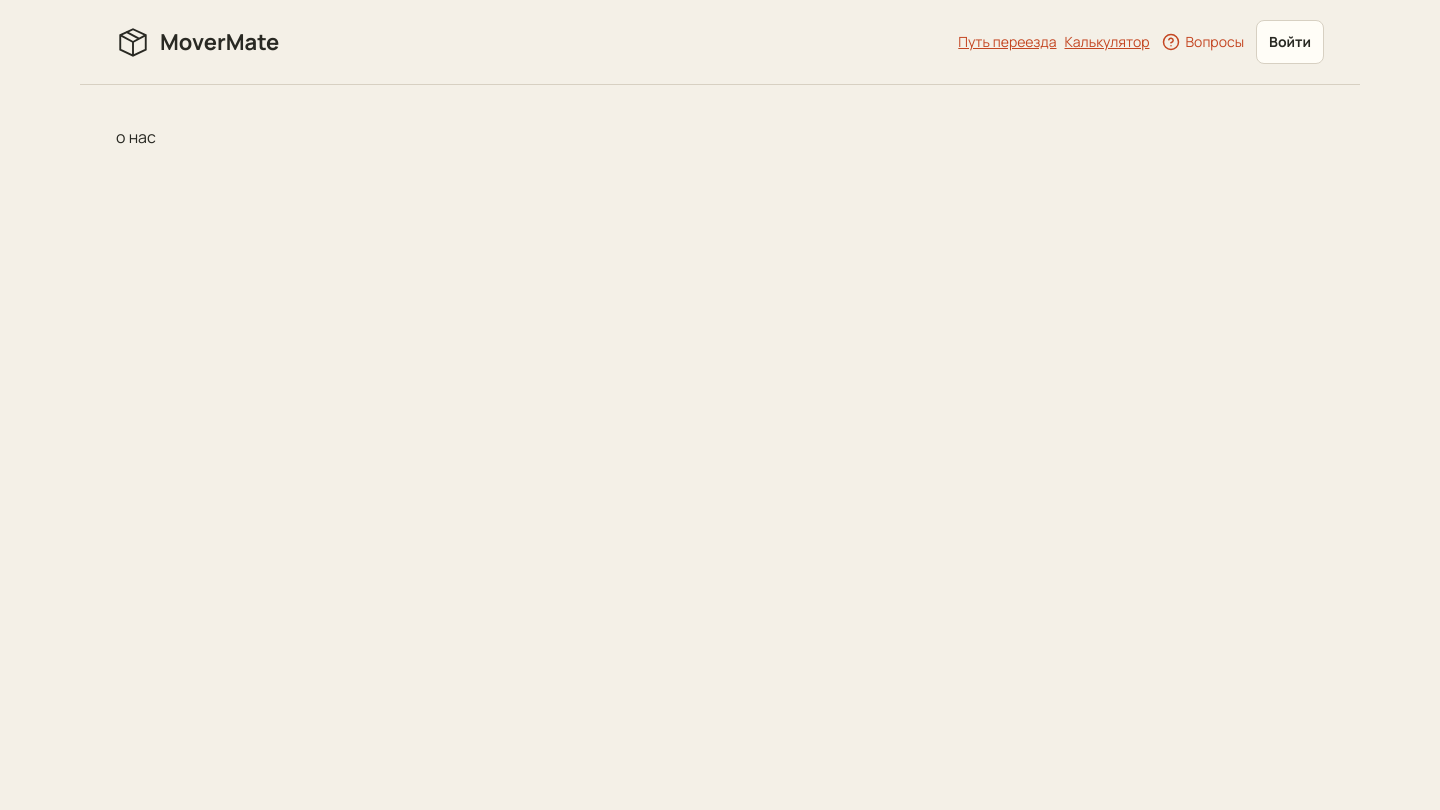
Test: гость › показывает публичную шапку без меню проекта и один вход
The image size is (1440, 810).
Check: the text "о нас" is shown, box x1=116 y1=126 x2=156 y2=148
Check: the number of links "Войти" is 1, box x1=1256 y1=20 x2=1324 y2=64
Click the button "Вопросы": (1203,42) x1=1158 y1=20 x2=1248 y2=64
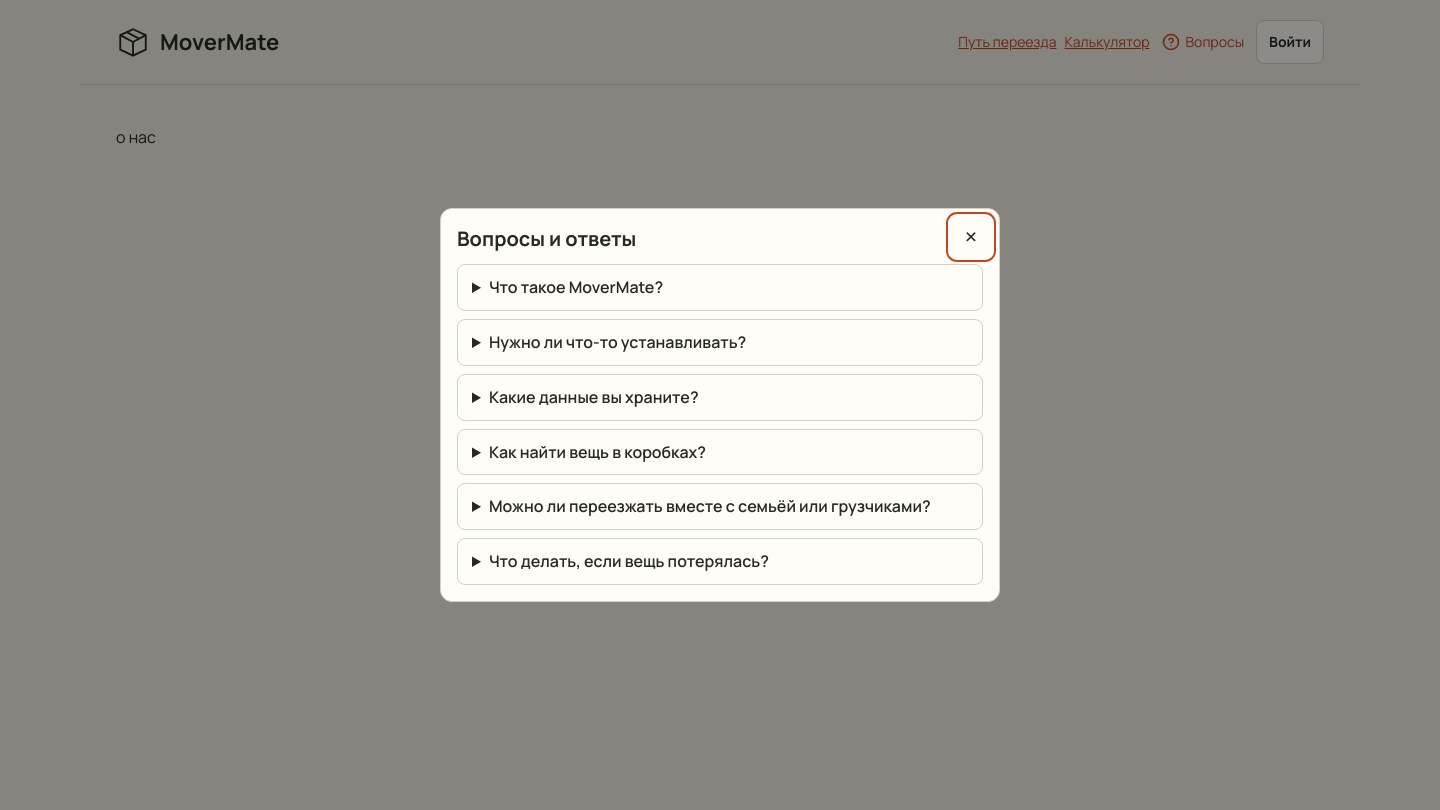
Check: the heading "Вопросы и ответы" is shown, box x1=457 y1=225 x2=636 y2=252
Check: the heading "Нужно ли что-то устанавливать?" is shown, box x1=489 y1=331 x2=746 y2=353
